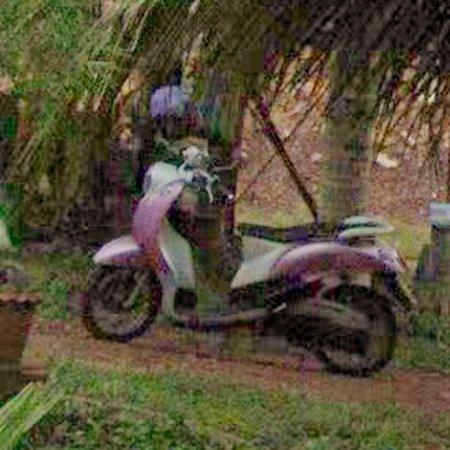motorcycles: (81, 136, 420, 382)
